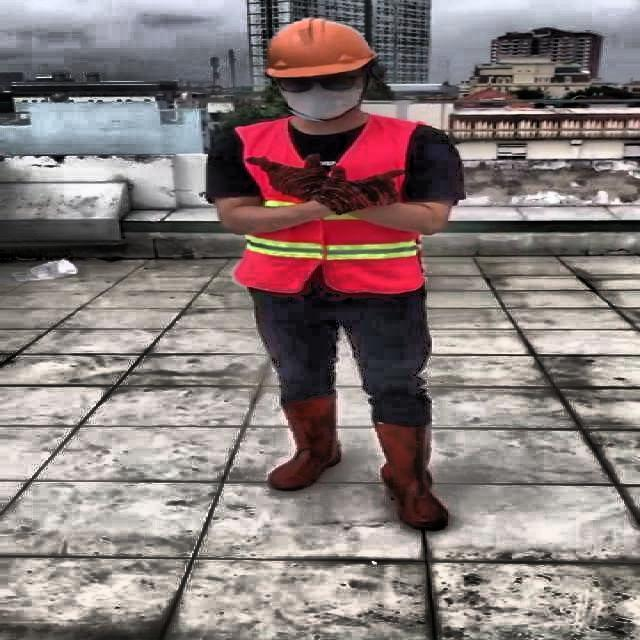safety_helmet: (204, 11, 478, 544), (260, 16, 376, 76)
safety_jacket: (235, 117, 425, 296)
